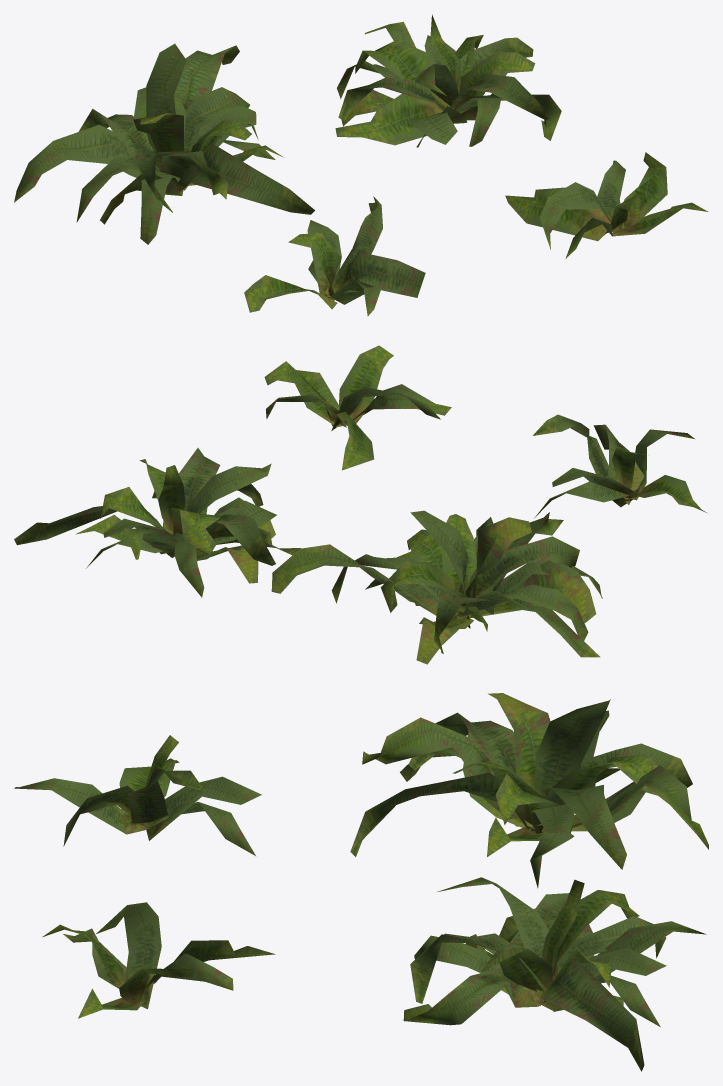
The model's file is fern_02.lod.glb.
3 renders of one model, top to bottom at view 1: azimuth 30°, elevation 25°; view 2: azimuth 150°, elevation 25°; view 3: azimuth 270°, elevation 25°, orthographic. The views are drawn at different scales.
Visible parts, largest first — view 1: fern_02_b; view 2: fern_02_b; view 3: fern_02_b.
Part boxes in pixels (x1,y1,x2,y2): fern_02_b: [14, 14, 708, 316]; fern_02_b: [14, 345, 706, 664]; fern_02_b: [14, 693, 708, 1071].
Size of the model in its own units: 1.97 by 0.4246 by 1.72.
1 material, 1 textured.
